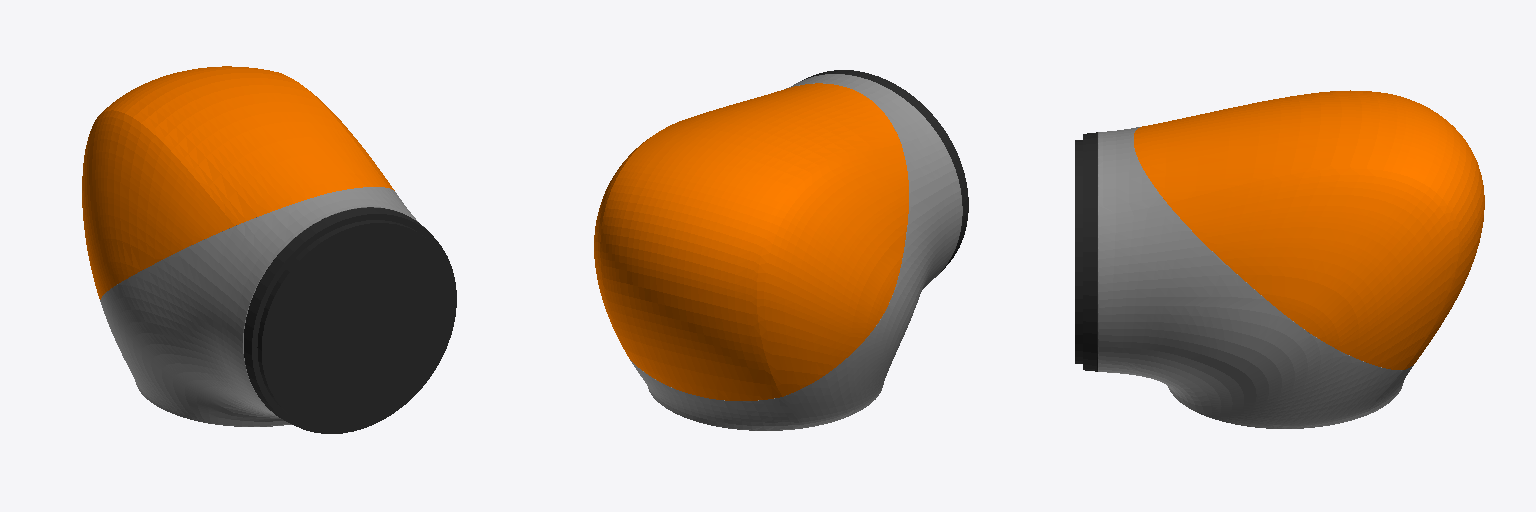
The picture shows the model from 3 angles: view 1: azimuth 30°, elevation 25°; view 2: azimuth 150°, elevation 25°; view 3: azimuth 270°, elevation 25°; orthographic projection.
Parts seen in each view (by area): view 1: link_6; view 2: link_6; view 3: link_6.
Part boxes in pixels (x1,y1,x2,y2): link_6: (82, 66, 456, 433); link_6: (594, 70, 968, 430); link_6: (1075, 90, 1484, 428).
Bounding box in the file's own units: 0.1323 × 0.1376 × 0.1775.